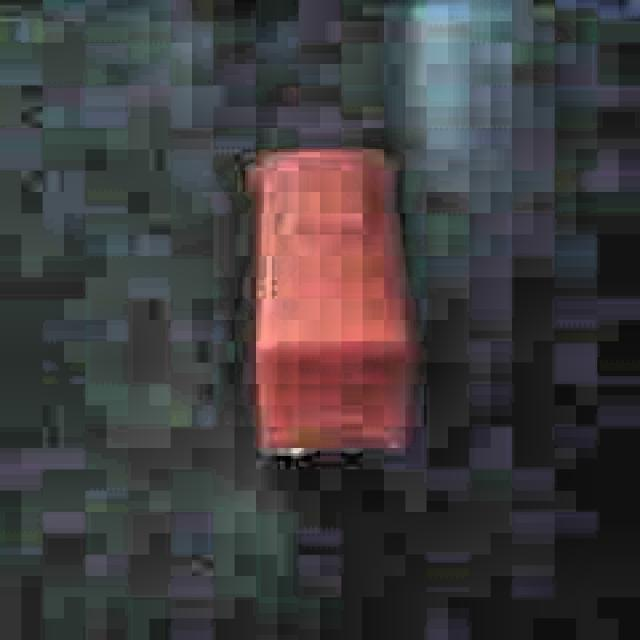bus: (233, 139, 426, 462)
